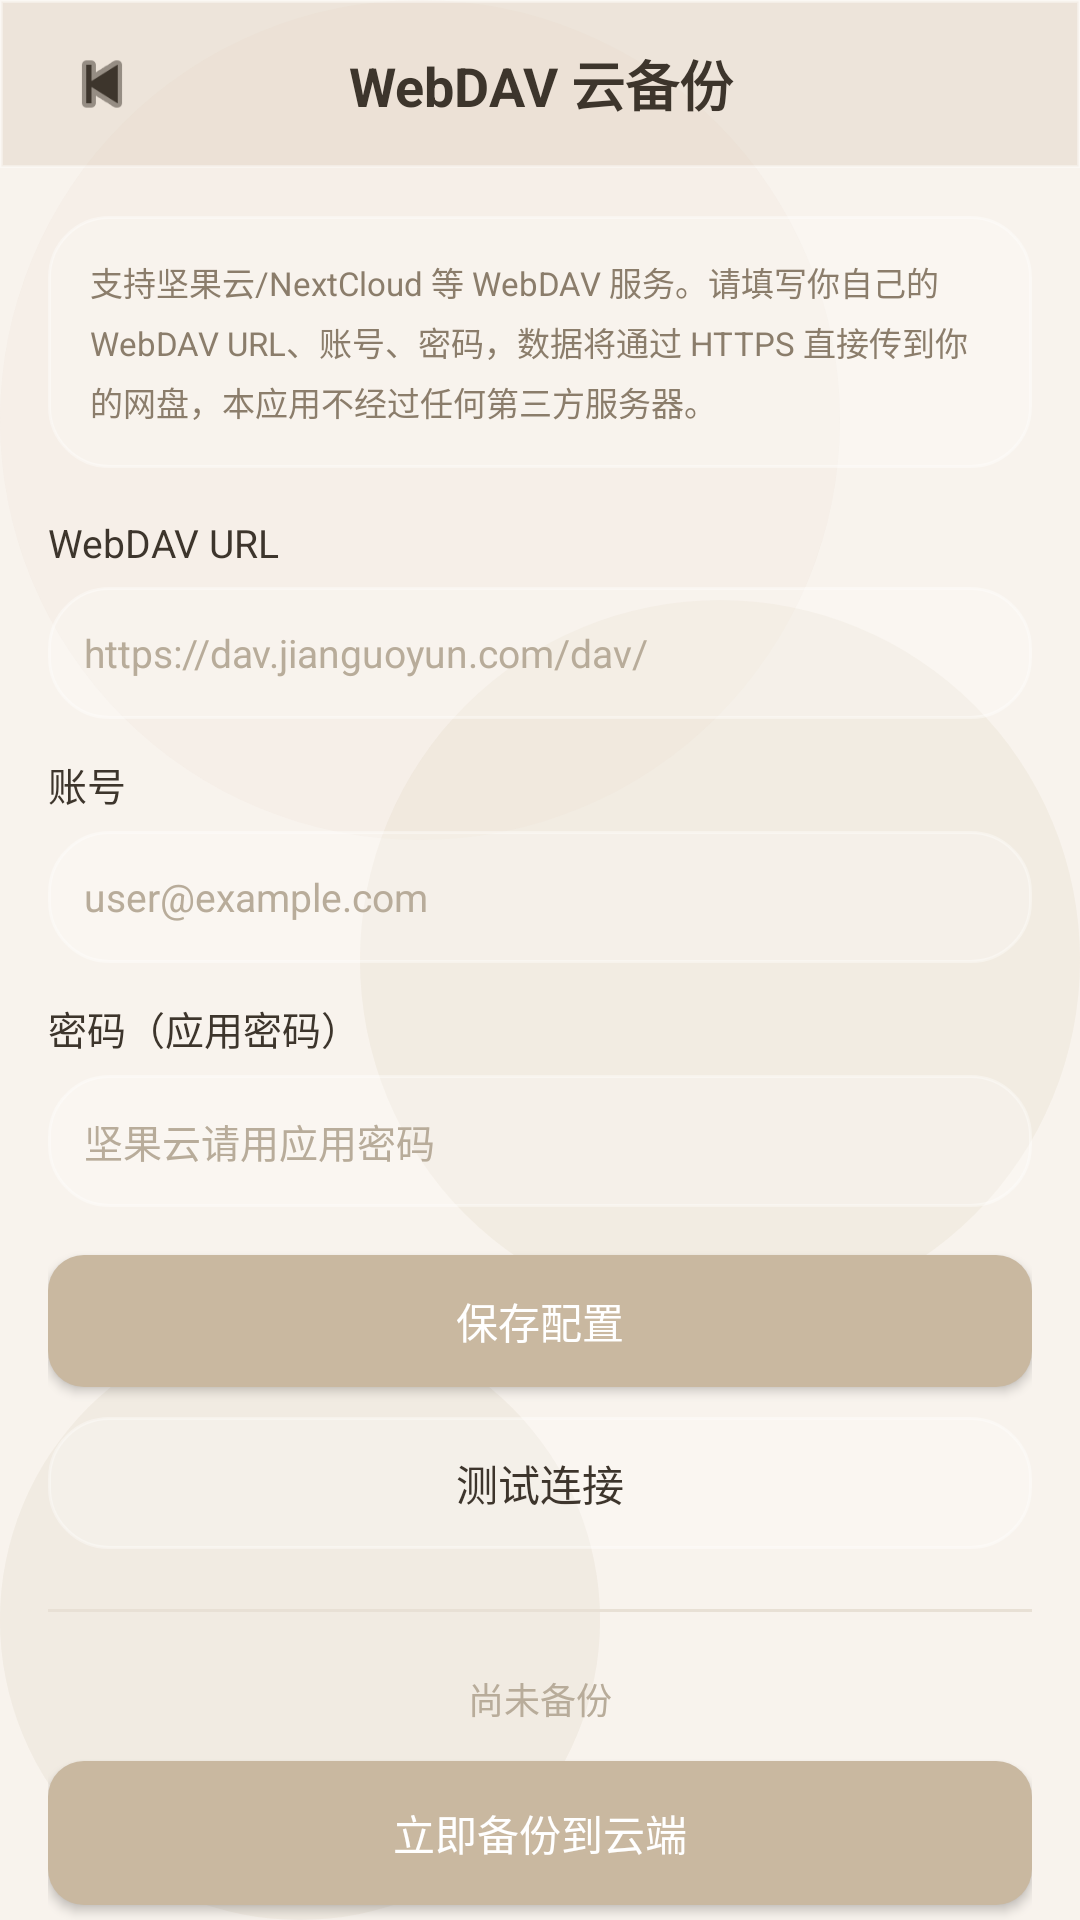

Point at icon controls on the screen. Image size 1080×1920, points as [x,y].
previous: [102,84]
